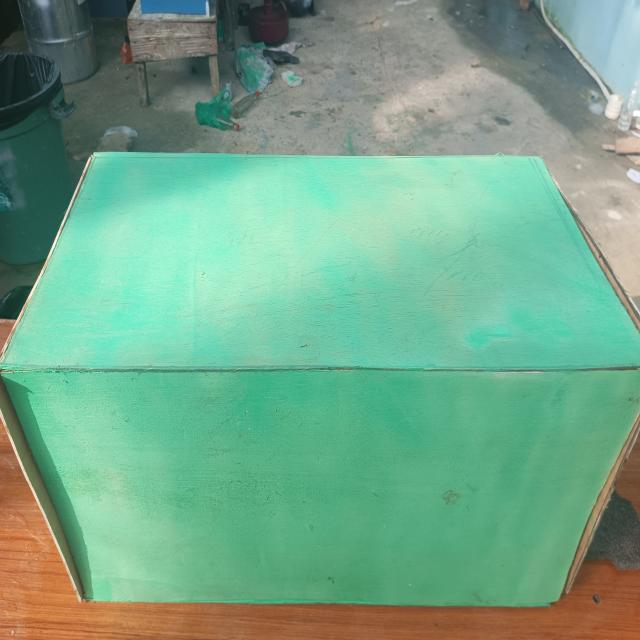green_box: (12, 138, 617, 598)
